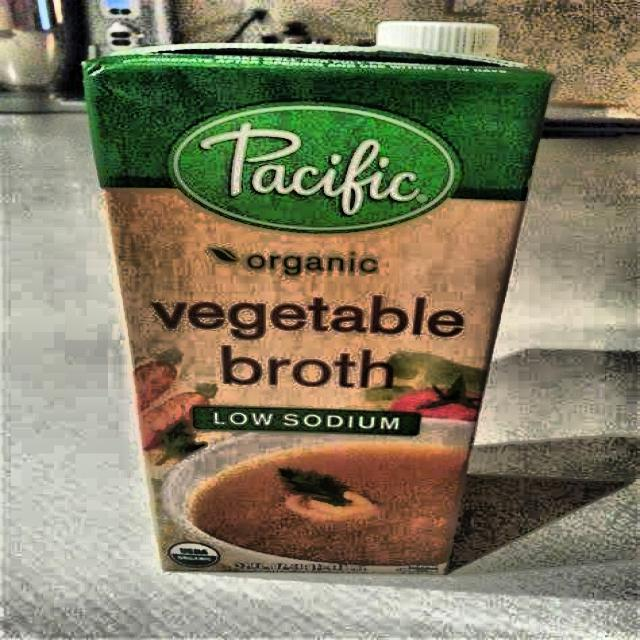cardboard: (80, 42, 556, 576)
